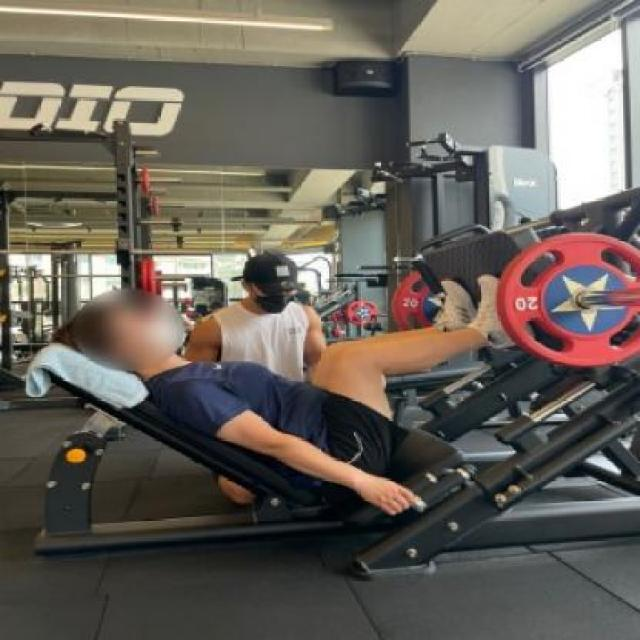leg press: (17, 175, 640, 583)
